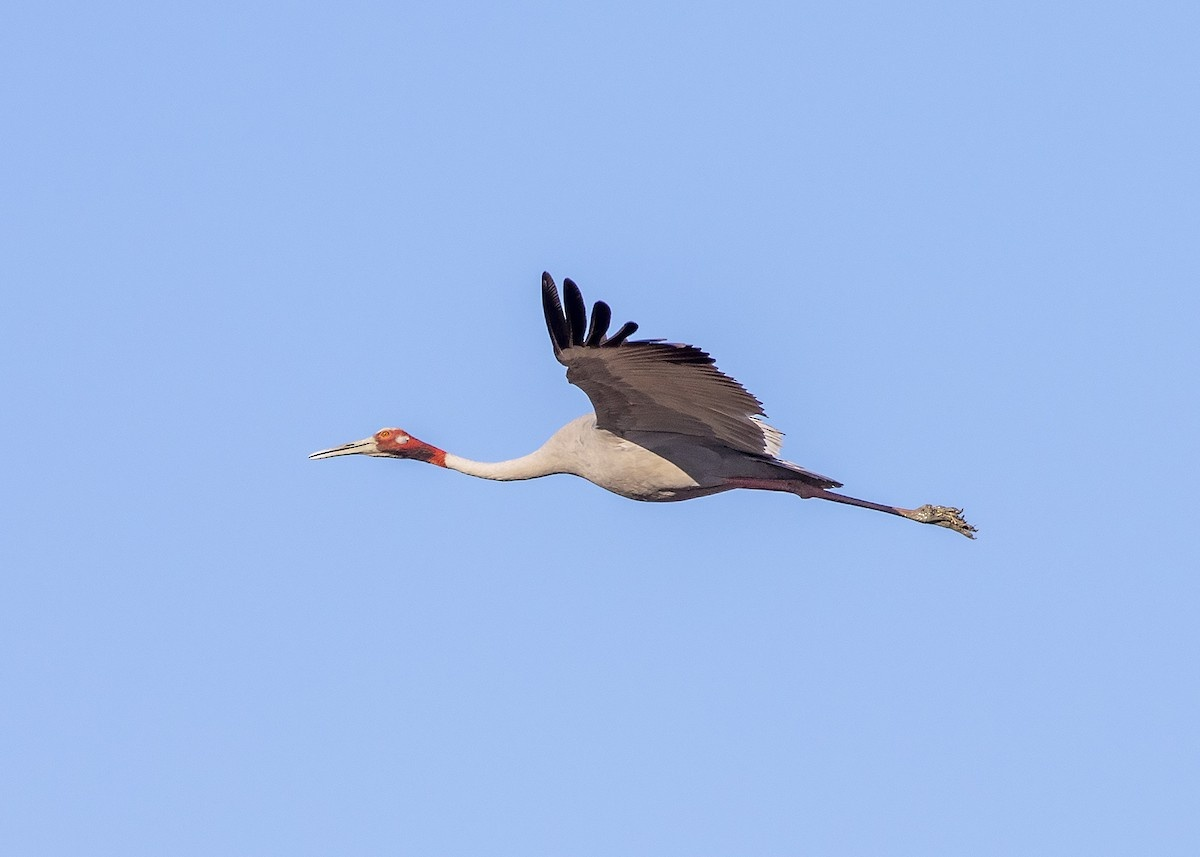crane: (297, 265, 988, 549)
